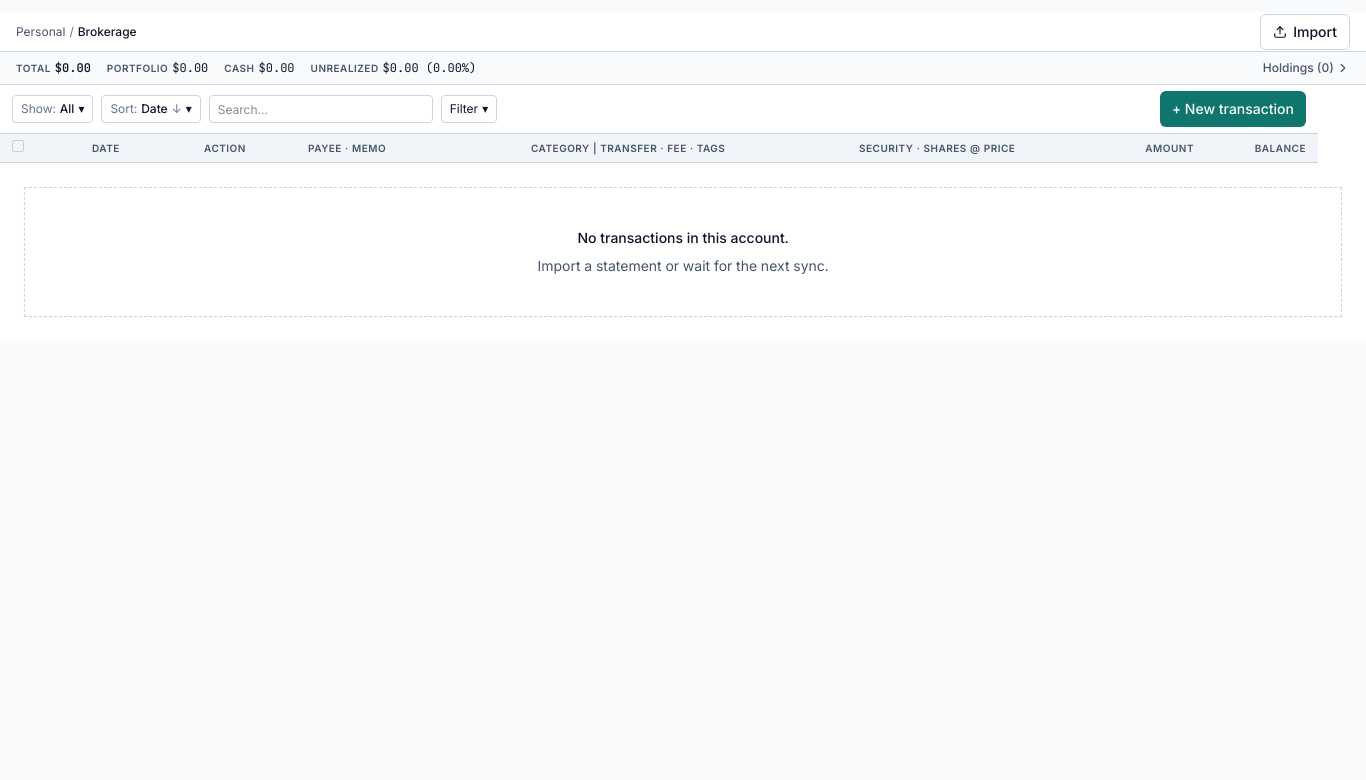
InvestmentRegisterPage › opens the New-transaction editor when the toolbar button is clicked
Click the button "+ New transaction" at (1233, 109), box [1160,91,1306,127]
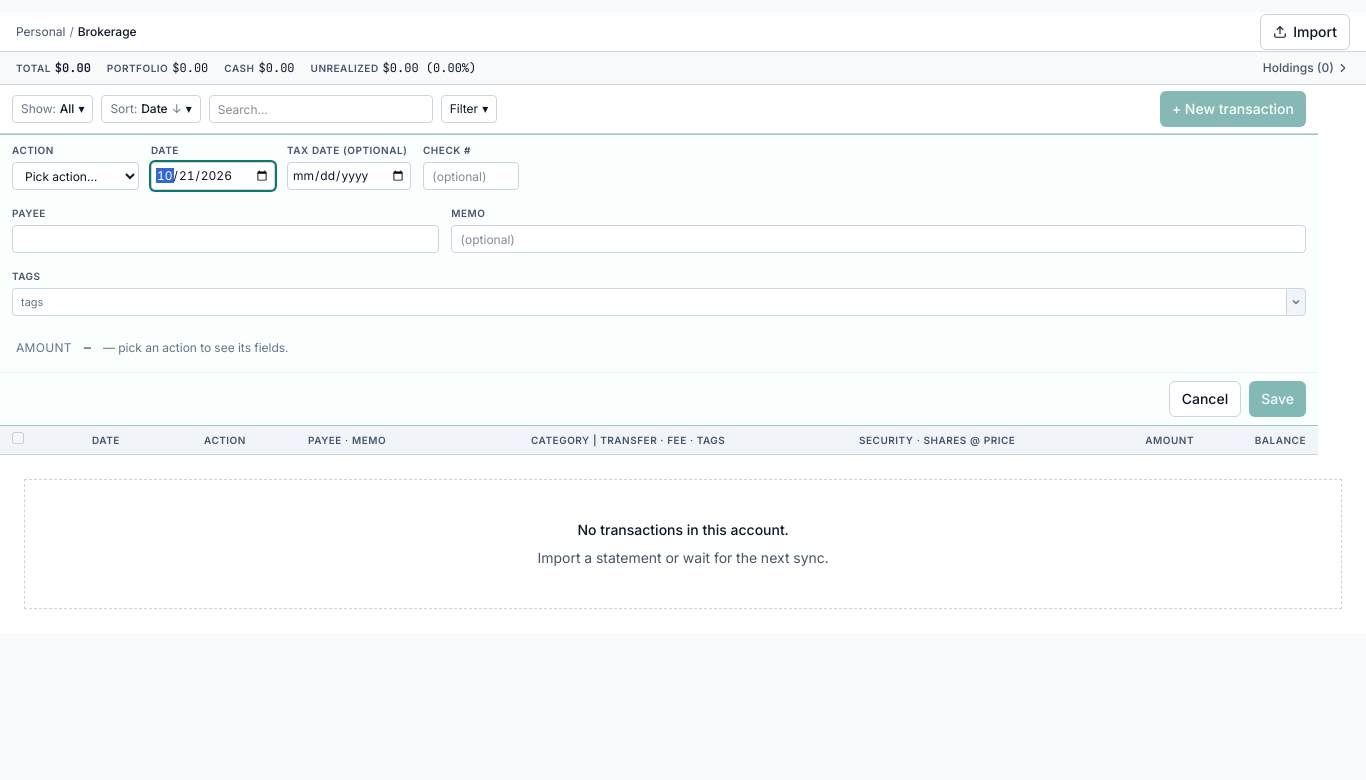
Expected: the button "Cancel" is shown, [1169,381,1241,417]
